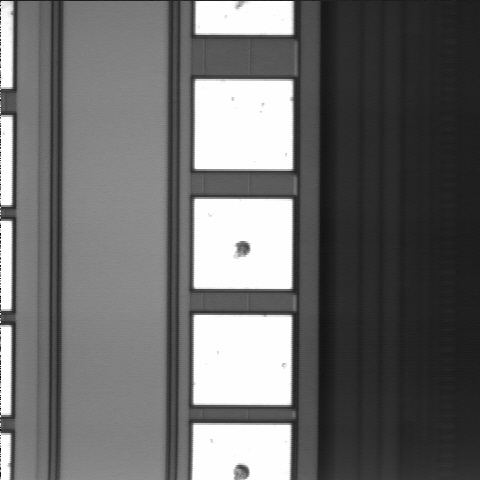pad: (195, 79, 293, 169), (194, 199, 292, 289), (194, 315, 292, 405)
